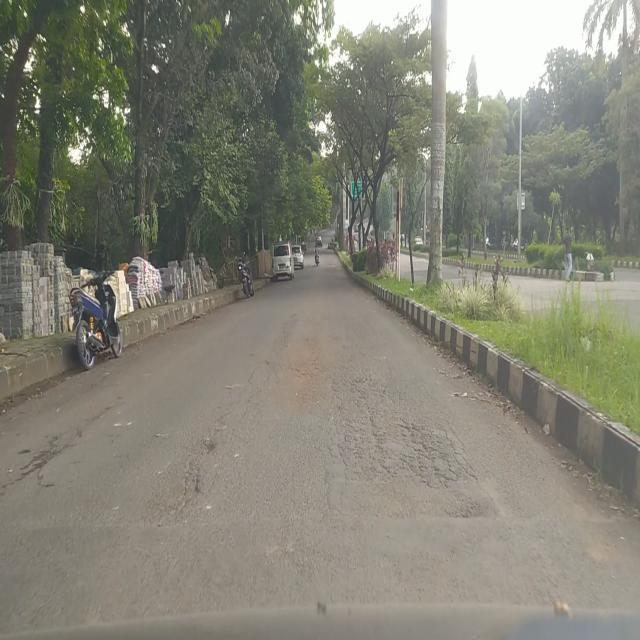Drain Hole: (332, 386, 477, 484), (167, 414, 224, 514)
